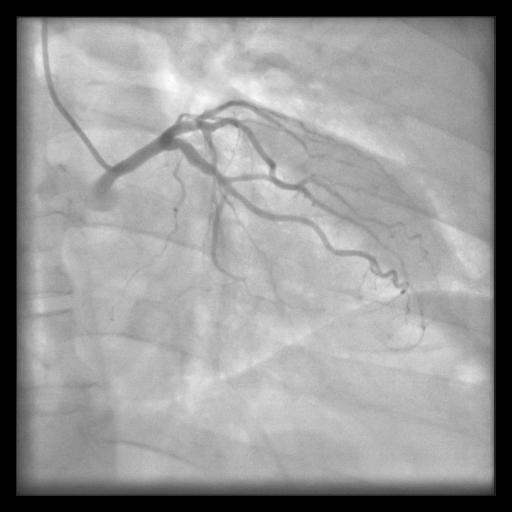Stenosis: (212, 165, 222, 181)
